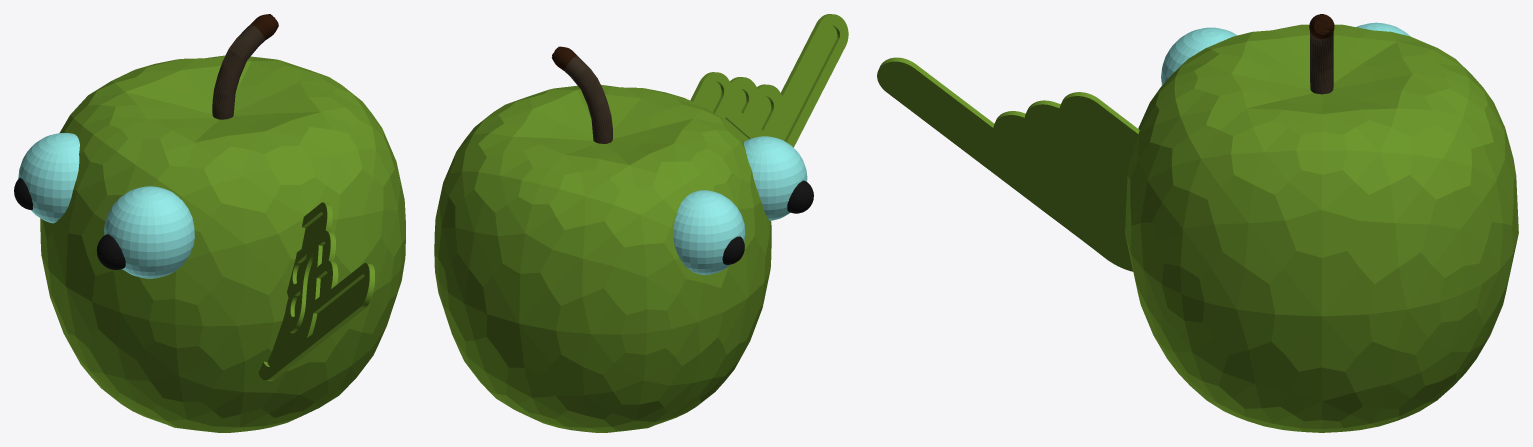
Rendered from fmanzana1.glb.
3 views of the same model, side by side, from view 1: azimuth 30°, elevation 25°; view 2: azimuth 150°, elevation 25°; view 3: azimuth 270°, elevation 25° (orthographic). The views are drawn at different scales.
Visible parts, largest first — view 1: Cube.002, uploads_files_133183_Hand3, Sphere, Sphere.001, Sphere.003, Sphere.002; view 2: Cube.002, uploads_files_133183_Hand3, Sphere.001, Sphere, Sphere.003, Sphere.002; view 3: Cube.002, uploads_files_133183_Hand3, Sphere.
Boxes of the visible parts, x1,y1,x2,y2 form: Cube.002: [40, 14, 405, 432]; uploads_files_133183_Hand3: [258, 202, 374, 381]; Sphere: [104, 186, 194, 278]; Sphere.001: [18, 133, 79, 223]; Sphere.003: [96, 234, 125, 269]; Sphere.002: [14, 177, 32, 209]; Cube.002: [434, 46, 771, 432]; uploads_files_133183_Hand3: [690, 14, 848, 147]; Sphere.001: [673, 190, 745, 274]; Sphere: [744, 136, 807, 220]; Sphere.003: [787, 180, 813, 213]; Sphere.002: [722, 236, 744, 264]; Cube.002: [1125, 14, 1518, 432]; uploads_files_133183_Hand3: [877, 57, 1139, 271]; Sphere: [1161, 27, 1237, 85].
Bounding box in the file's own units: 0.2956 × 0.3173 × 0.4519.
